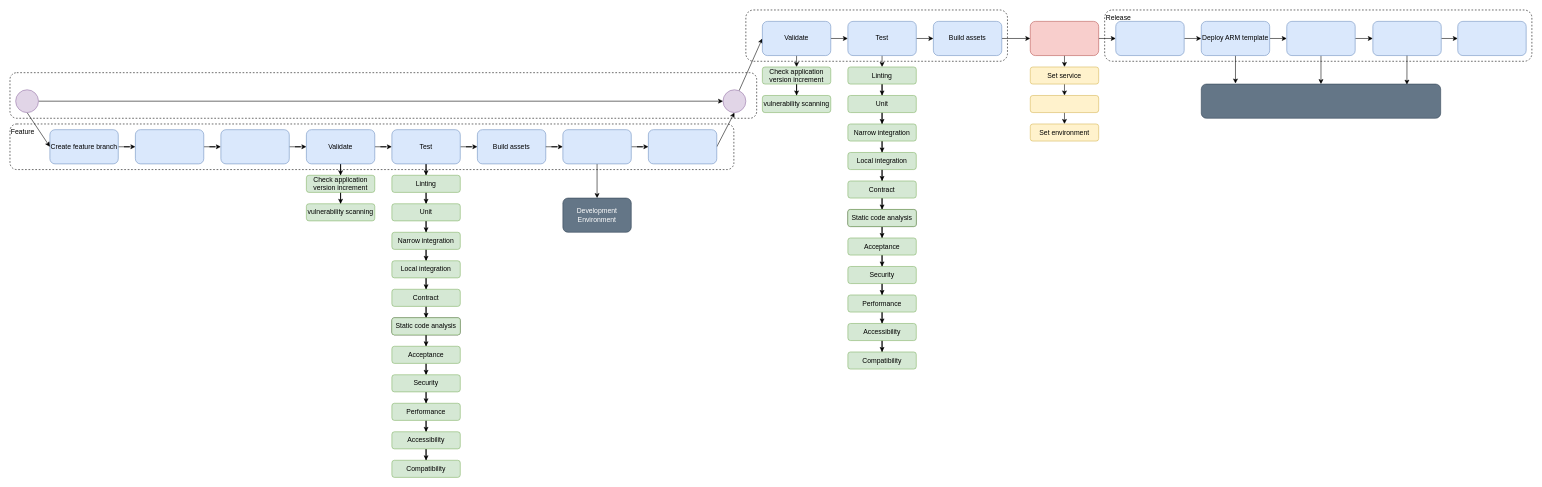
Image size: 1542x487. Some labels were removed from this diagram. The box of each missing label's shape, as (x1, y1, x2, y2) in pixels:
CI: (745, 9, 1007, 61)
Commit triggers CI: (220, 129, 289, 164)
Confirm deployment safe by contract: (1115, 21, 1184, 56)
Create draft Pull Request: (135, 129, 204, 164)
Deploy database migrations: (1372, 21, 1441, 56)
Deploy Helm chart: (1286, 21, 1355, 56)
Master: (9, 72, 757, 118)
PR deployment: (562, 129, 631, 164)
Pull Request review: (648, 129, 717, 164)
Release management: (1030, 21, 1099, 56)
Set version: (1030, 95, 1099, 113)
Success or rollback: (1457, 21, 1526, 56)
Target Environment: (1201, 84, 1441, 118)
